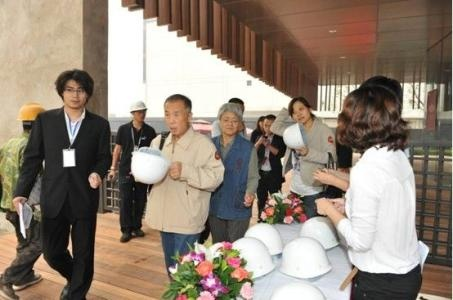none: (338, 85, 402, 153), (56, 70, 94, 111), (162, 94, 194, 136), (217, 102, 242, 138), (287, 95, 311, 125), (263, 114, 278, 134)
white: (128, 100, 147, 122)
yellow: (16, 101, 47, 136)
